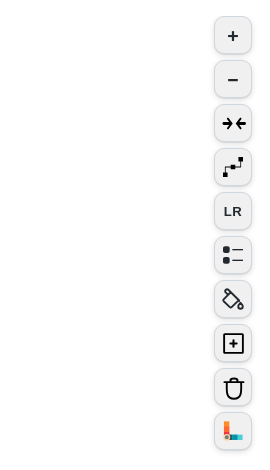
Scenario: ERD control help › supports keyboard focus and dismisses help when activating a control
Focus the button named "Add Table" at (233, 343), box [214,324,252,362]
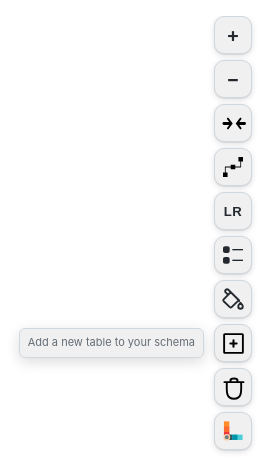
expect the tooltip reads "Add a new table to your schema": met, box [28,335,195,349]
Click the button named "Add Table".
click(233, 343)  # box [214,324,252,362]
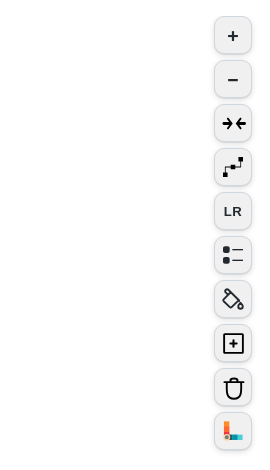
expect the tooltip "Add a new table to your schema" is gone: met
